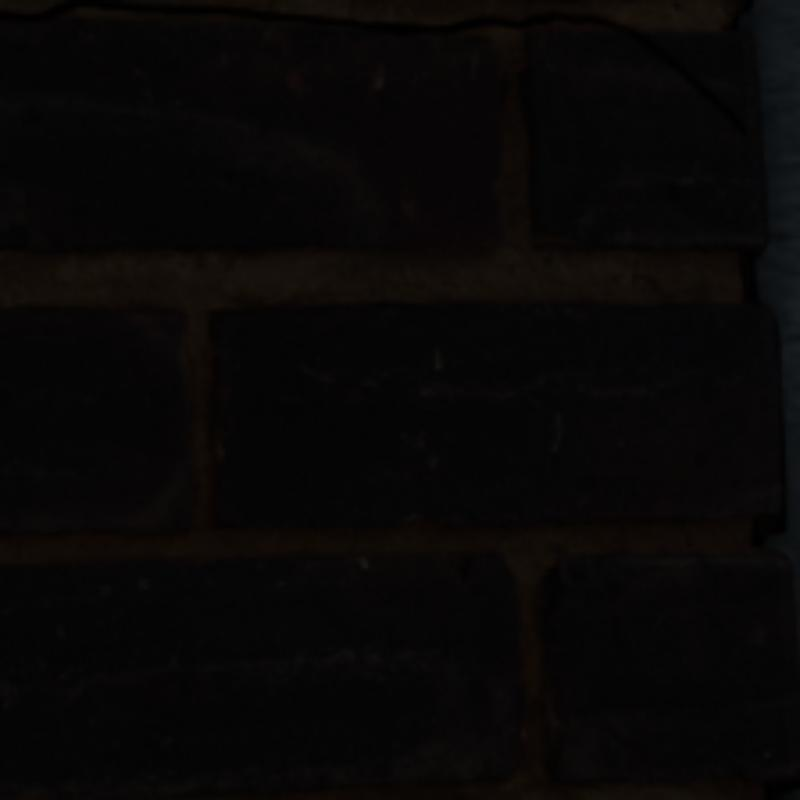crack: (0, 0, 629, 32), (629, 29, 743, 132)
